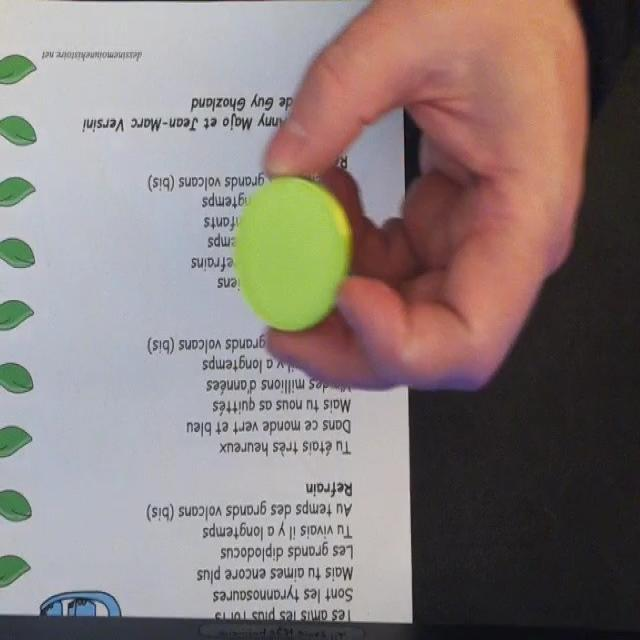round: (235, 176, 351, 333)
